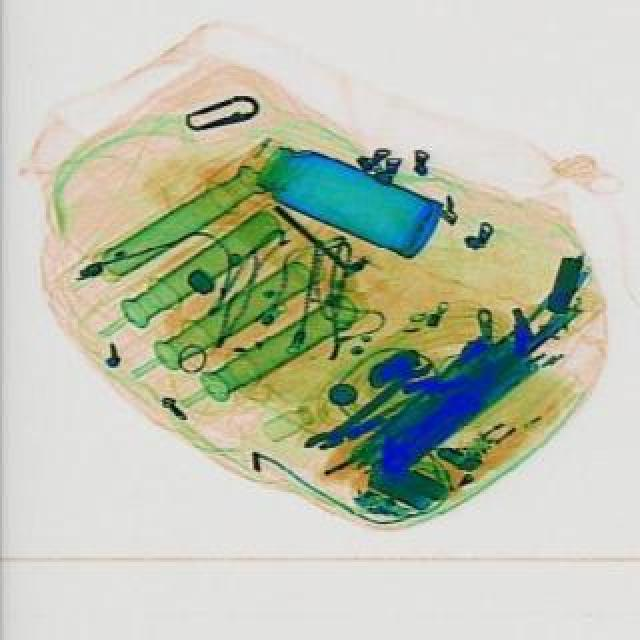scissors: (298, 354, 436, 464)
